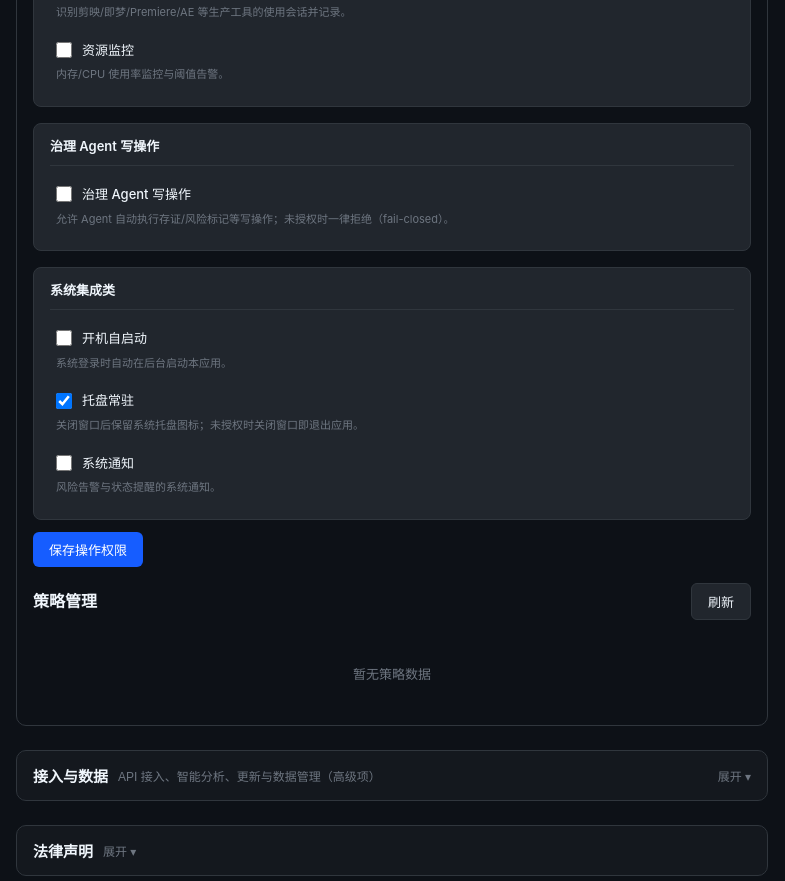
Settings 操作权限区块 › 保存时 IPC 抛异常展示错误提示
(page scrolled)
Click the button "保存操作权限": [88, 550] box x1=33 y1=532 x2=143 y2=567
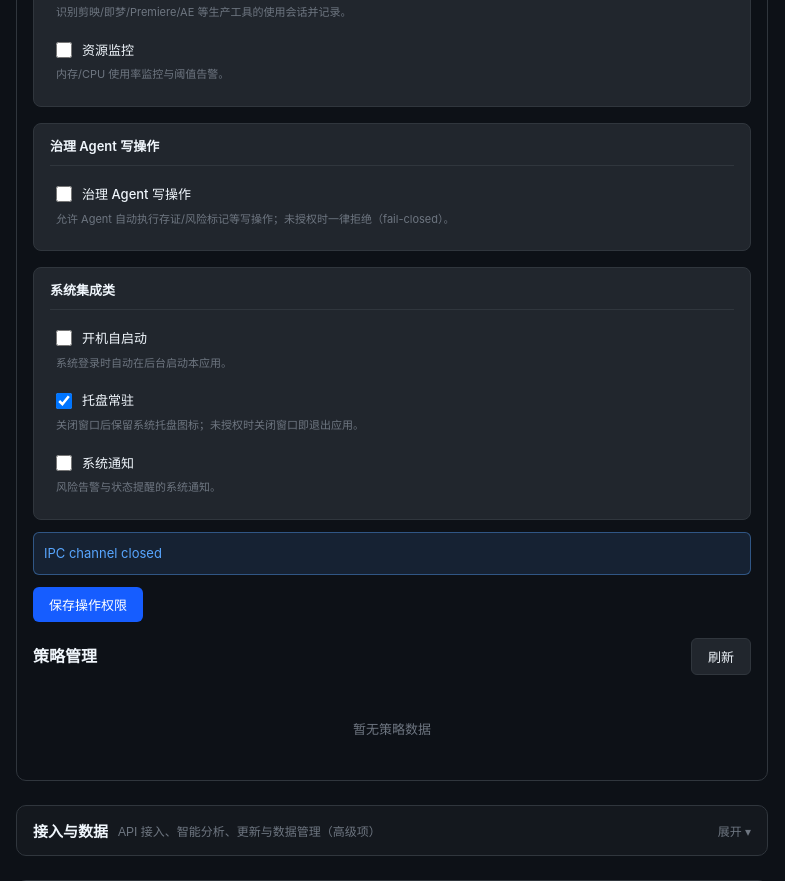
Check: the text "IPC channel closed" is shown, box x1=33 y1=532 x2=751 y2=575
